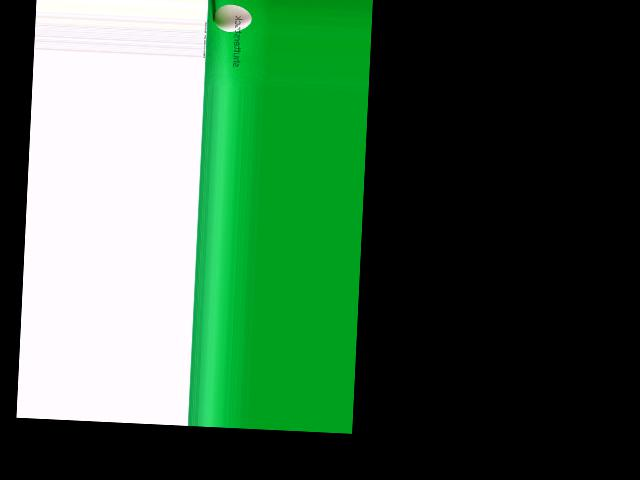egg: (212, 3, 252, 32)
